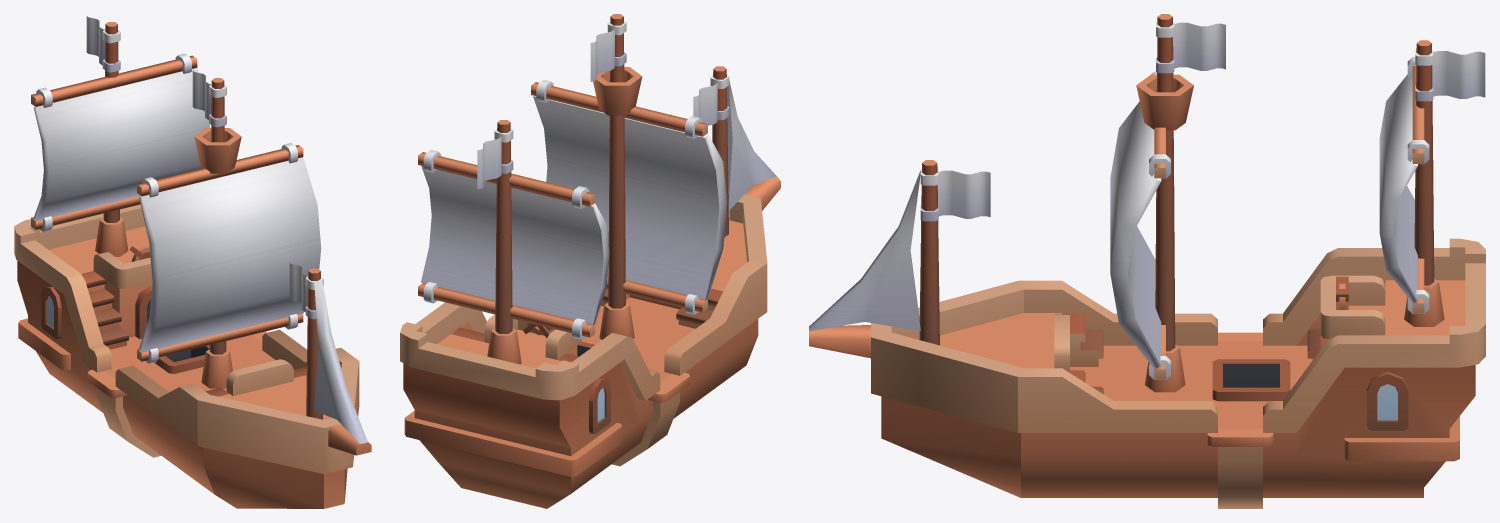
File: ship-large.glb
3 renders of one model, left to right at view 1: azimuth 30°, elevation 25°; view 2: azimuth 150°, elevation 25°; view 3: azimuth 270°, elevation 25°, orthographic. The views are drawn at different scales.
Visible parts, largest first — view 1: ship-large, sail-a, sail-b, flag-b, flag-c, flag-a; view 2: ship-large, sail-a, sail-b, flag-b, flag-c, flag-a; view 3: ship-large, sail-a, sail-b, flag-c, flag-a, flag-b.
Part boxes in pixels (<box>): ship-large: <box>14,22,371,508</box>; sail-a: <box>137,143,321,363</box>; sail-b: <box>31,53,210,231</box>; flag-b: <box>192,70,226,127</box>; flag-c: <box>86,16,120,72</box>; flag-a: <box>289,262,323,319</box>; ship-large: <box>400,14,780,508</box>; sail-a: <box>531,80,726,314</box>; sail-b: <box>418,150,609,339</box>; flag-b: <box>590,21,626,81</box>; flag-c: <box>477,128,513,189</box>; flag-a: <box>693,75,729,125</box>; ship-large: <box>809,14,1485,508</box>; sail-a: <box>1110,71,1170,379</box>; sail-b: <box>1379,57,1429,313</box>; flag-c: <box>1415,49,1485,101</box>; flag-a: <box>920,169,990,221</box>; flag-b: <box>1156,21,1225,73</box>.
Size of the model in its own units: 4.8 by 9.96 by 13.1.
1 material, 1 textured.
